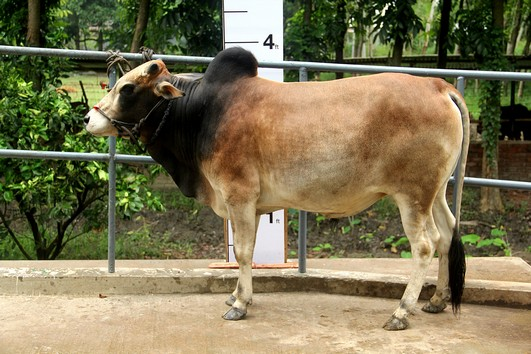cow: (73, 41, 477, 333)
